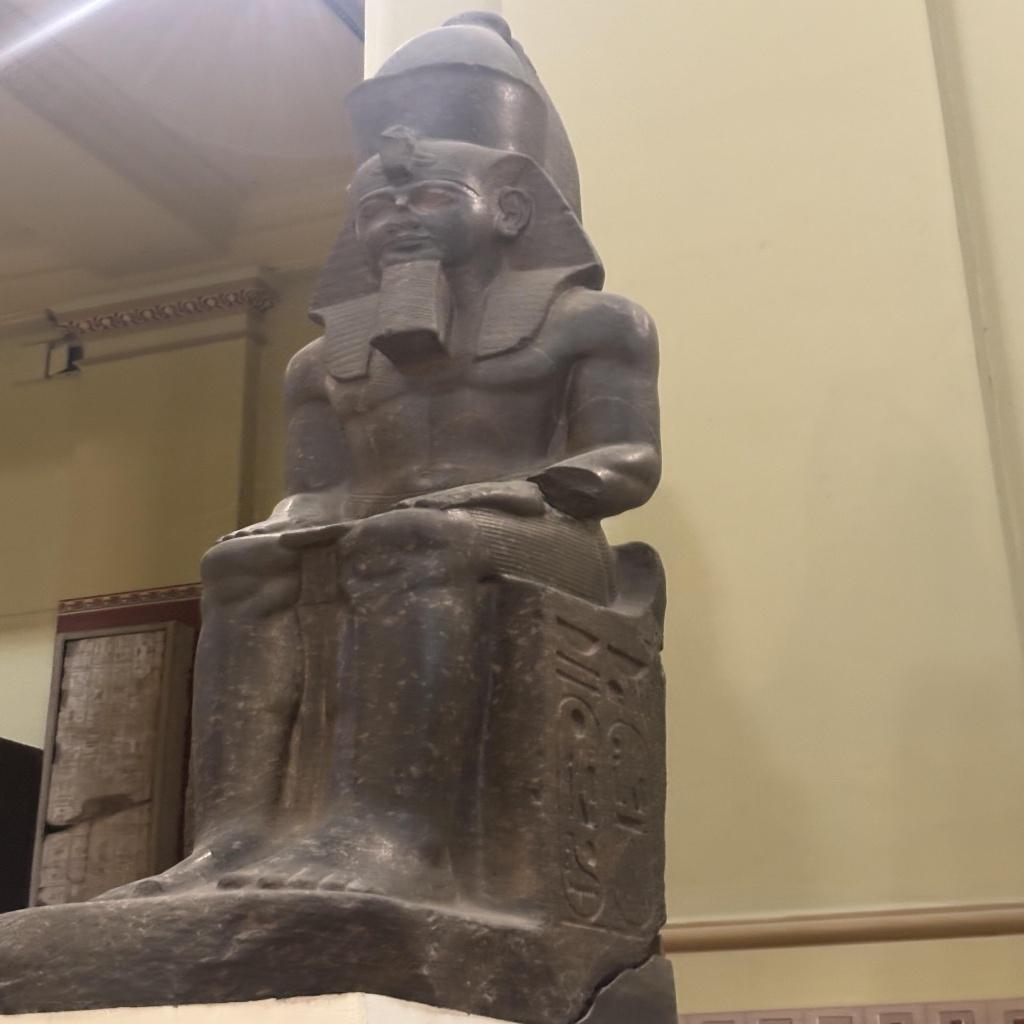Grey Granite of Ramesses II: (4, 12, 681, 1019)
